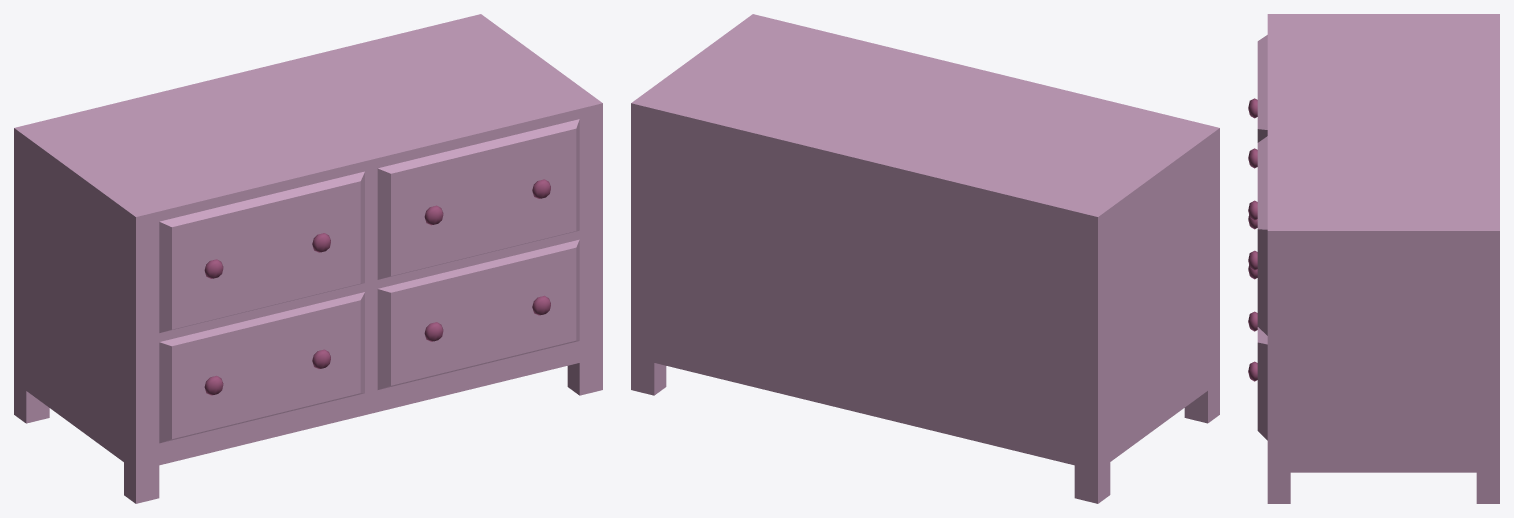
The model's file is Dresser.fbx.
3 views of the same model, side by side, from view 1: azimuth 30°, elevation 25°; view 2: azimuth 150°, elevation 25°; view 3: azimuth 270°, elevation 25° (orthographic). The views are drawn at different scales.
Visible parts, largest first — view 1: pCylinder17; view 2: pCylinder17; view 3: pCylinder17.
Part boxes in pixels (x1,y1,x2,y2): pCylinder17: (14,14,602,503); pCylinder17: (631,14,1219,503); pCylinder17: (1248,14,1499,503).
Size of the model in its own units: 3.23 by 1.89 by 1.58.
